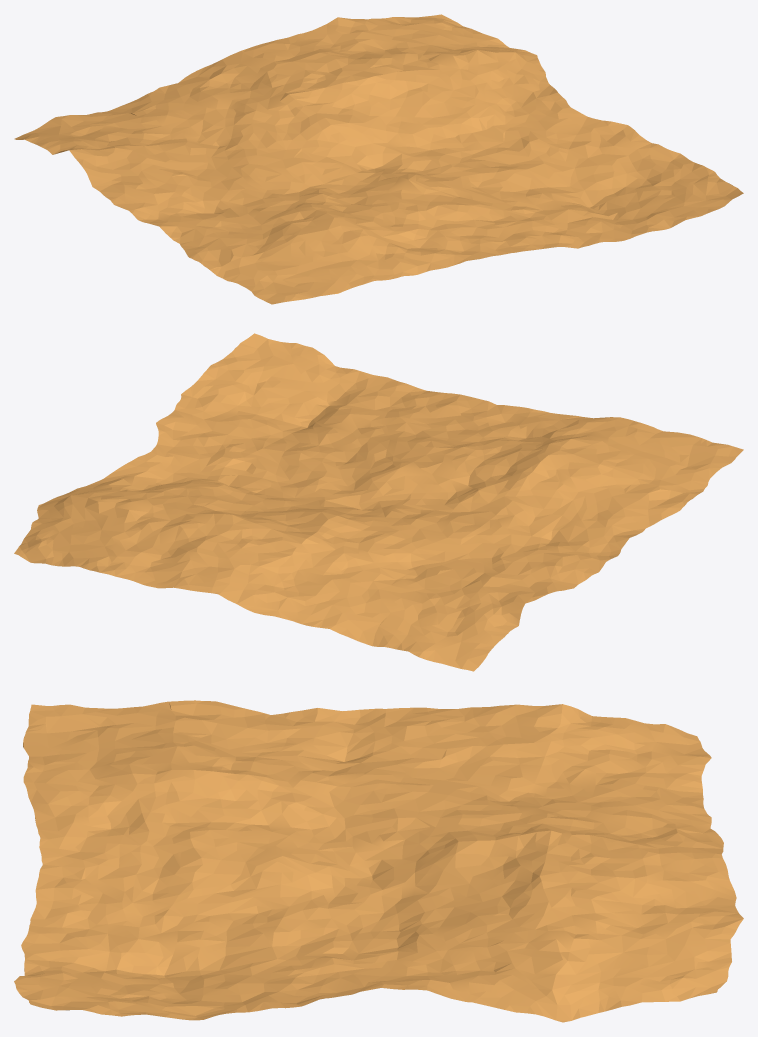
3 renders of one model, top to bottom at view 1: azimuth 30°, elevation 25°; view 2: azimuth 150°, elevation 25°; view 3: azimuth 270°, elevation 25°, orthographic. The views are drawn at different scales.
Visible parts, largest first — view 1: Environment_1; view 2: Environment_1; view 3: Environment_1.
Part boxes in pixels (<box>): Environment_1: <box>14,14,743,304</box>; Environment_1: <box>14,333,743,671</box>; Environment_1: <box>14,700,743,1022</box>.
Size of the model in its own units: 2142 by 173 by 2155.
